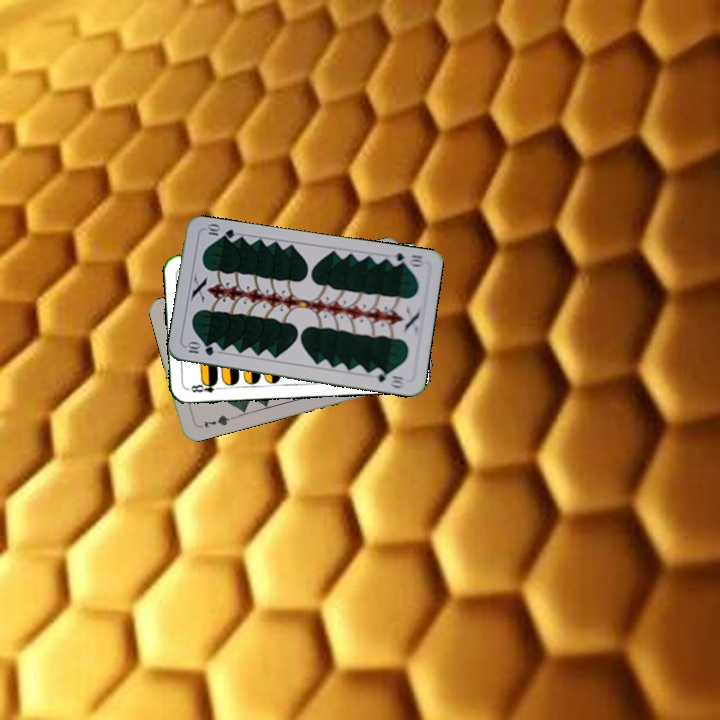E8: (184, 377, 225, 395)
G10: (386, 249, 427, 270), (183, 339, 216, 358)
G7: (200, 411, 235, 431)
